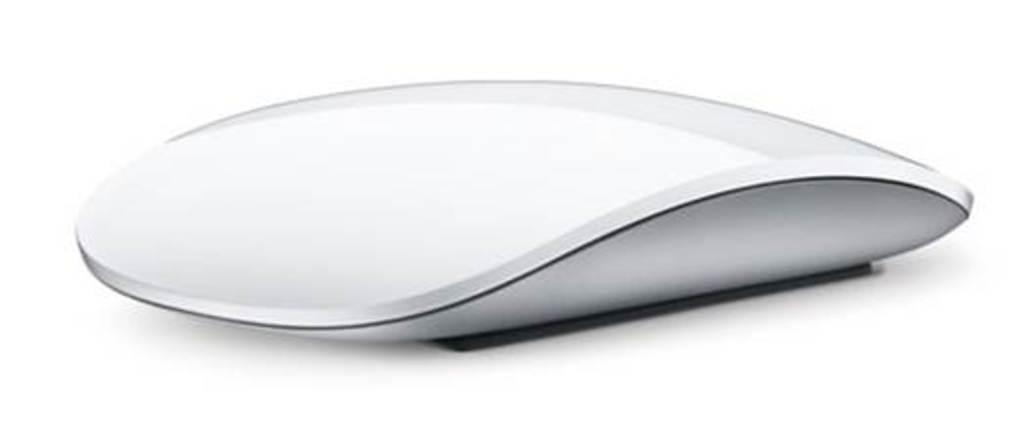Computer-mouse: (65, 63, 973, 351)
